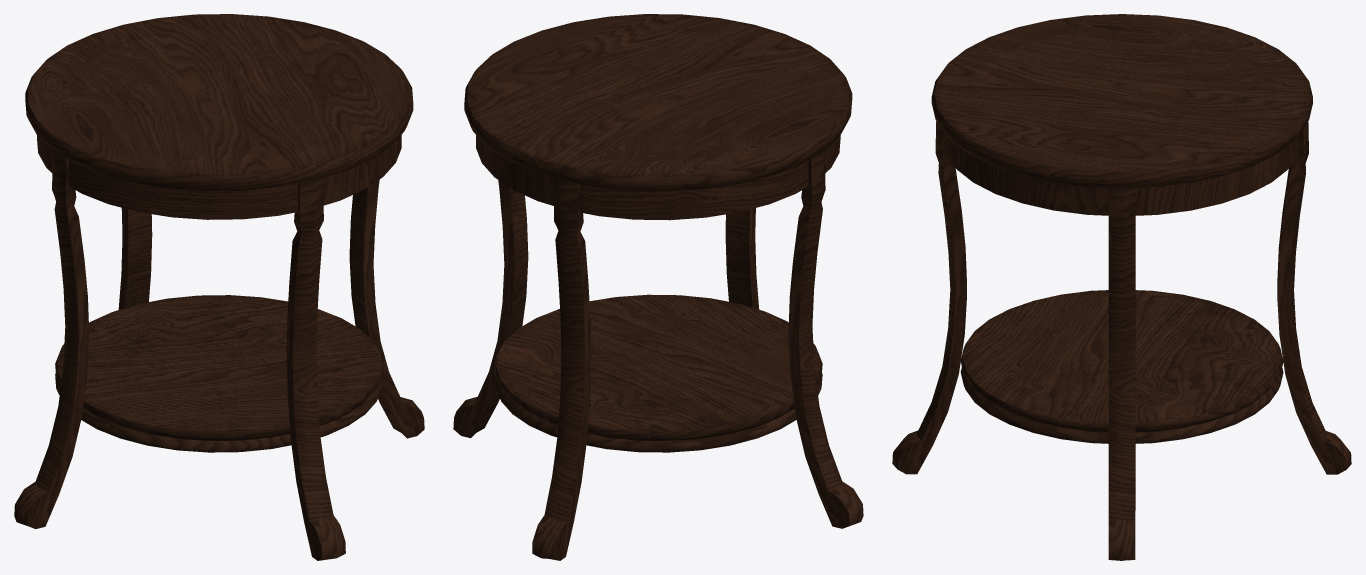
The model's file is Coffee Table3.glb.
3 renders of one model, left to right at view 1: azimuth 30°, elevation 25°; view 2: azimuth 150°, elevation 25°; view 3: azimuth 270°, elevation 25°, orthographic. The views are drawn at different scales.
Visible parts, largest first — view 1: Circle, Circle.002, Circle.001; view 2: Circle, Circle.002, Circle.001; view 3: Circle, Circle.002, Circle.001.
Boxes of the visible parts, box(x1,y1,x2,y2) form: Circle: box(25, 14, 413, 219); Circle.002: box(55, 295, 383, 452); Circle.001: box(14, 150, 424, 560); Circle: box(464, 14, 852, 220); Circle.002: box(494, 294, 822, 452); Circle.001: box(453, 150, 863, 560); Circle: box(931, 14, 1312, 215); Circle.002: box(960, 290, 1283, 443); Circle.001: box(892, 121, 1351, 560).
Size of the model in its own units: 2.83 by 2.56 by 2.83.
1 material, 1 textured.
